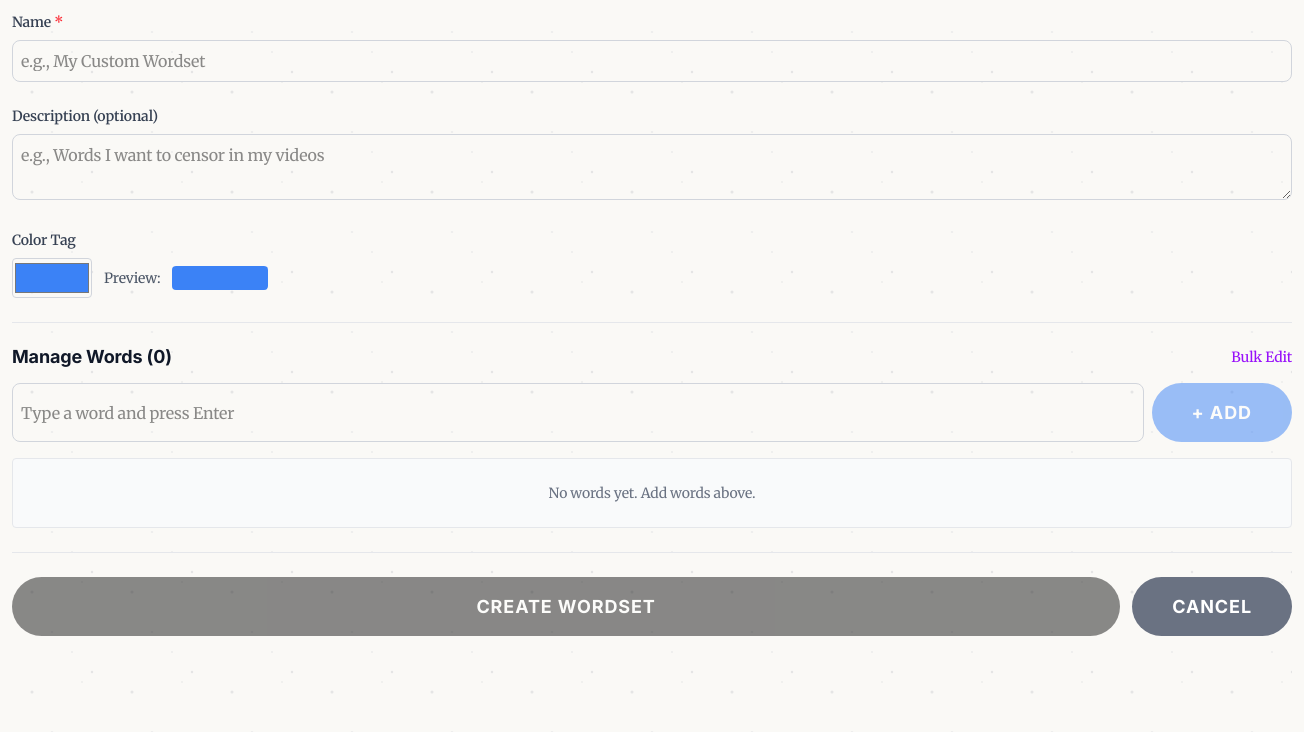
Test: WordsetEditor › words management › adds word when add button clicked
The image size is (1304, 732).
Type "test" into the field with test id "new-word-input" at coordinates (578, 412), box [12,383,1144,442]
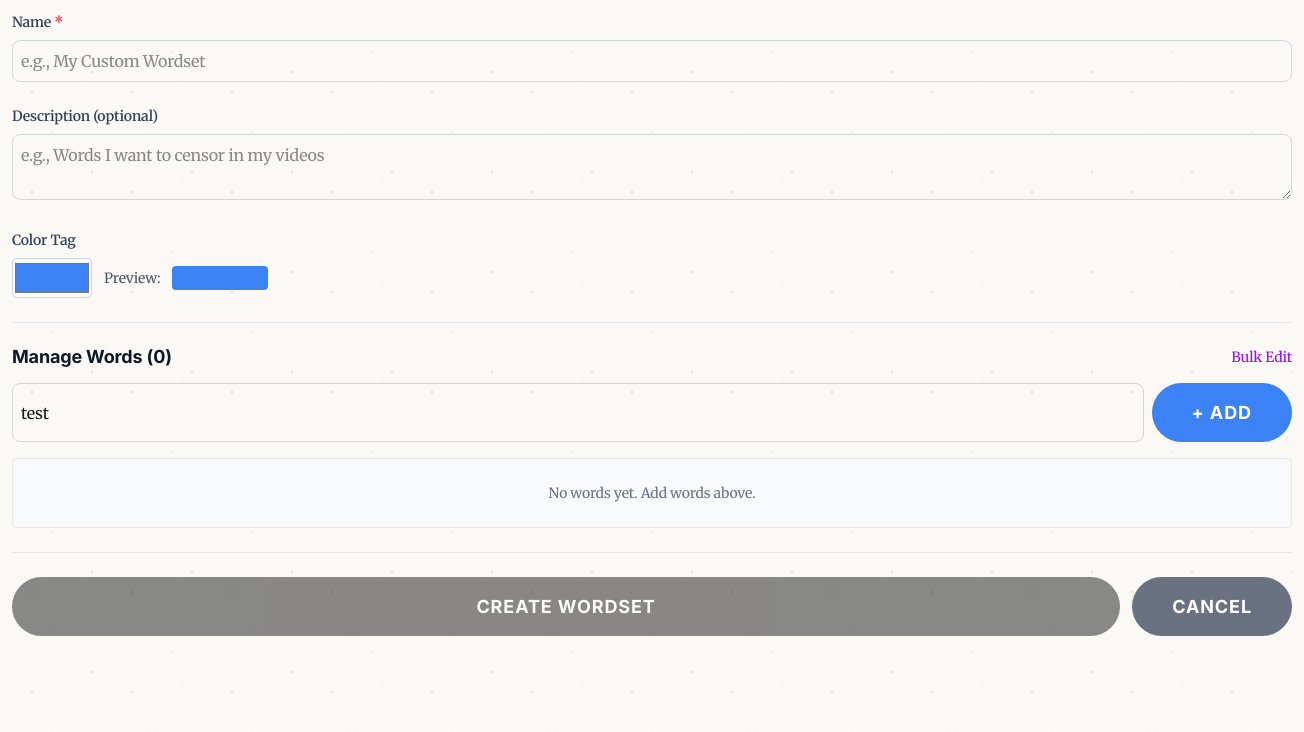
Click the button with test id "add-word-button" at coordinates (1222, 412), box [1152,383,1292,442]
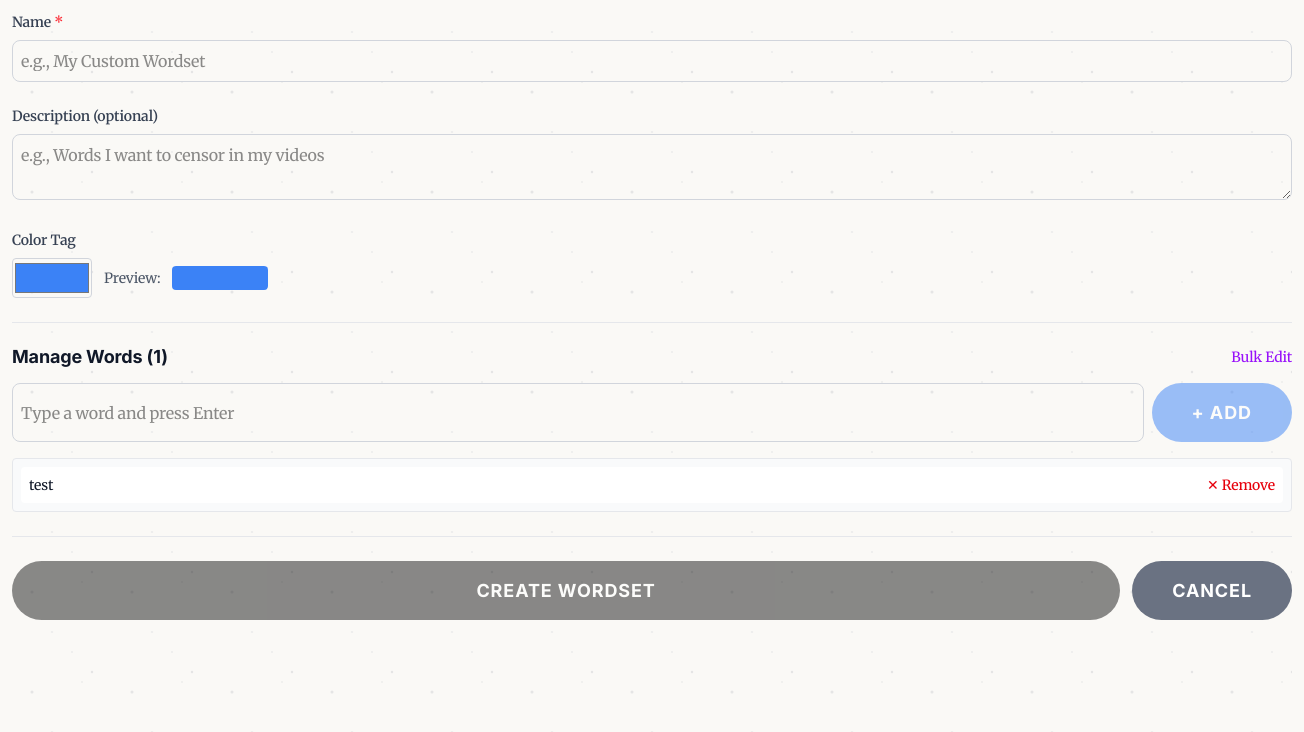
Expected: the text "test" is shown, [29,475,53,495]
Expected: the field with test id "new-word-input" is empty, [12,383,1144,442]
